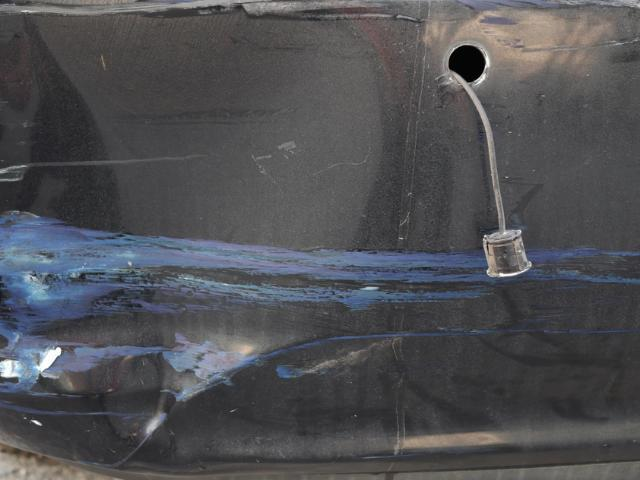Bumper: (0, 0, 635, 463)
